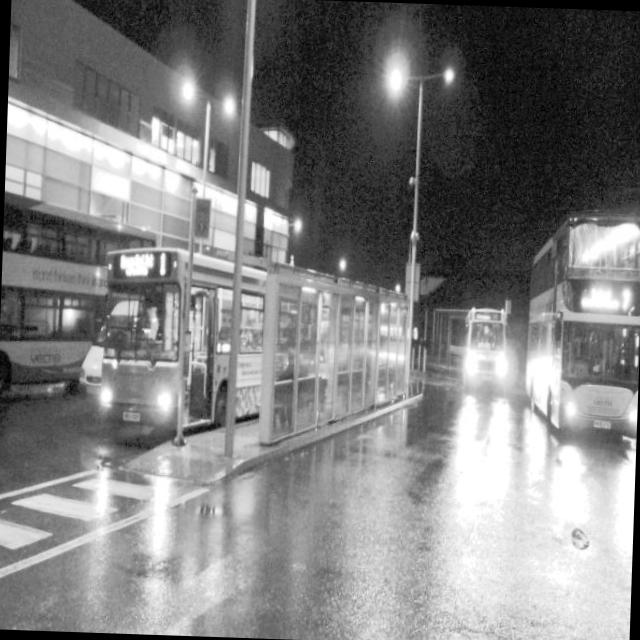Bus: (55, 203, 426, 451), (0, 201, 173, 398), (527, 216, 640, 476)
Car: (459, 295, 522, 414)
